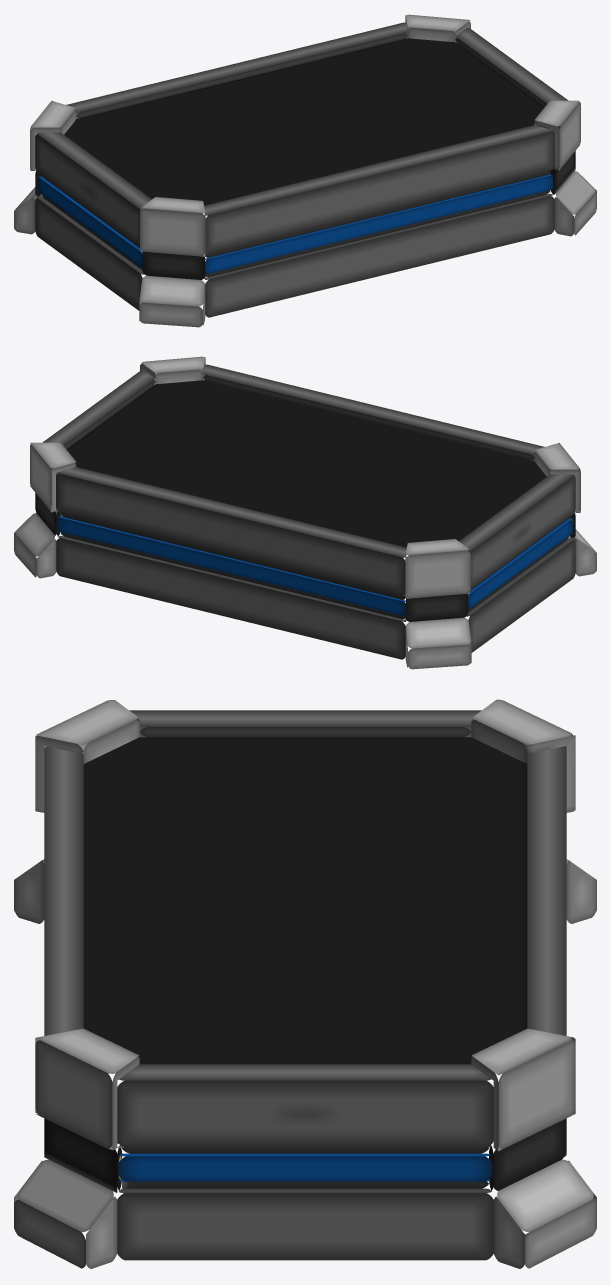
Rendered from Hologram_Table.fbx.
The picture shows the model from 3 angles, top to bottom: view 1: azimuth 30°, elevation 25°; view 2: azimuth 150°, elevation 25°; view 3: azimuth 270°, elevation 25°; orthographic projection. The views are drawn at different scales.
Visible parts, largest first — view 1: Hologram_Table; view 2: Hologram_Table; view 3: Hologram_Table.
Part boxes in pixels (bbox=[...]): Hologram_Table: bbox=[14, 14, 596, 327]; Hologram_Table: bbox=[14, 356, 596, 669]; Hologram_Table: bbox=[14, 699, 596, 1268].
Bounding box in the file's own units: 399 × 89.55 × 251.
